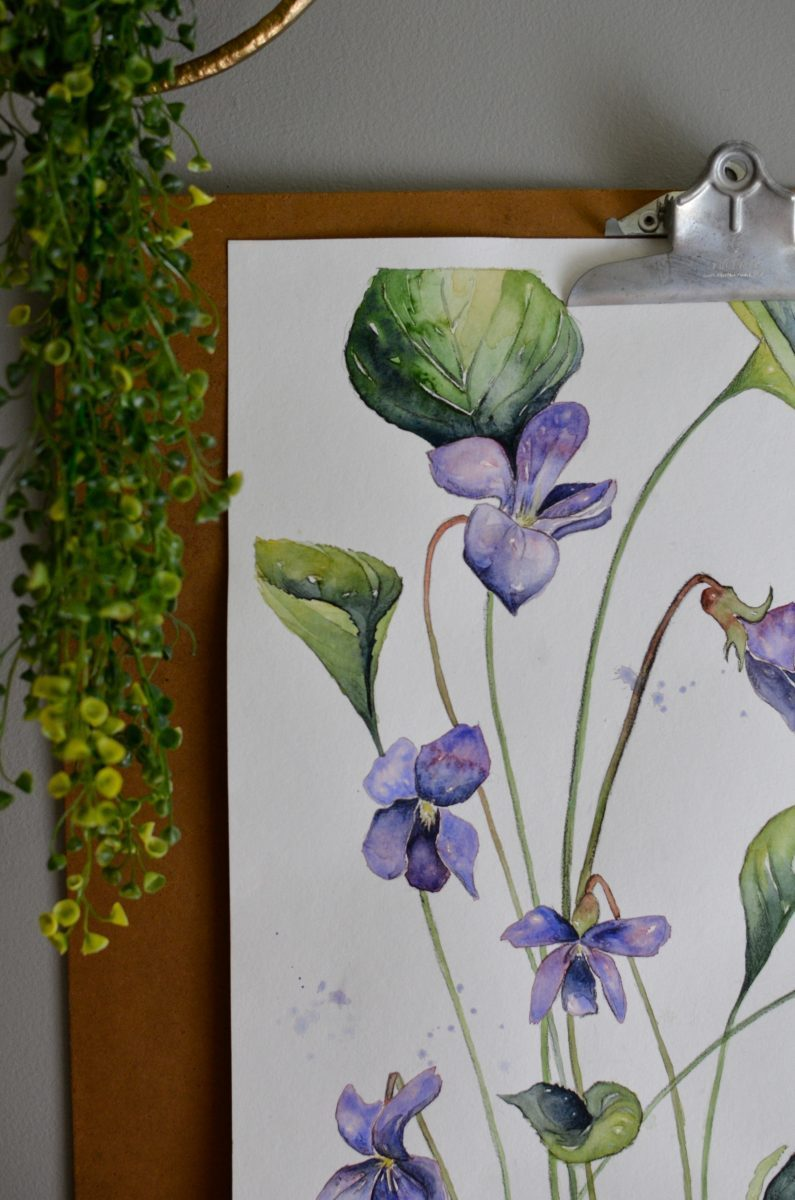violet: (415, 414, 634, 623), (338, 723, 501, 916), (507, 889, 673, 1033), (272, 1078, 442, 1200)
